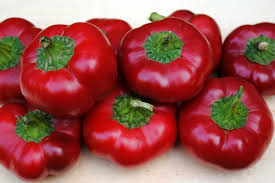bell pepper: (180, 64, 275, 169), (73, 78, 184, 165), (19, 23, 121, 107), (1, 100, 78, 182), (124, 20, 206, 96), (139, 1, 227, 70), (1, 8, 39, 115), (218, 18, 275, 78), (93, 12, 131, 51)
